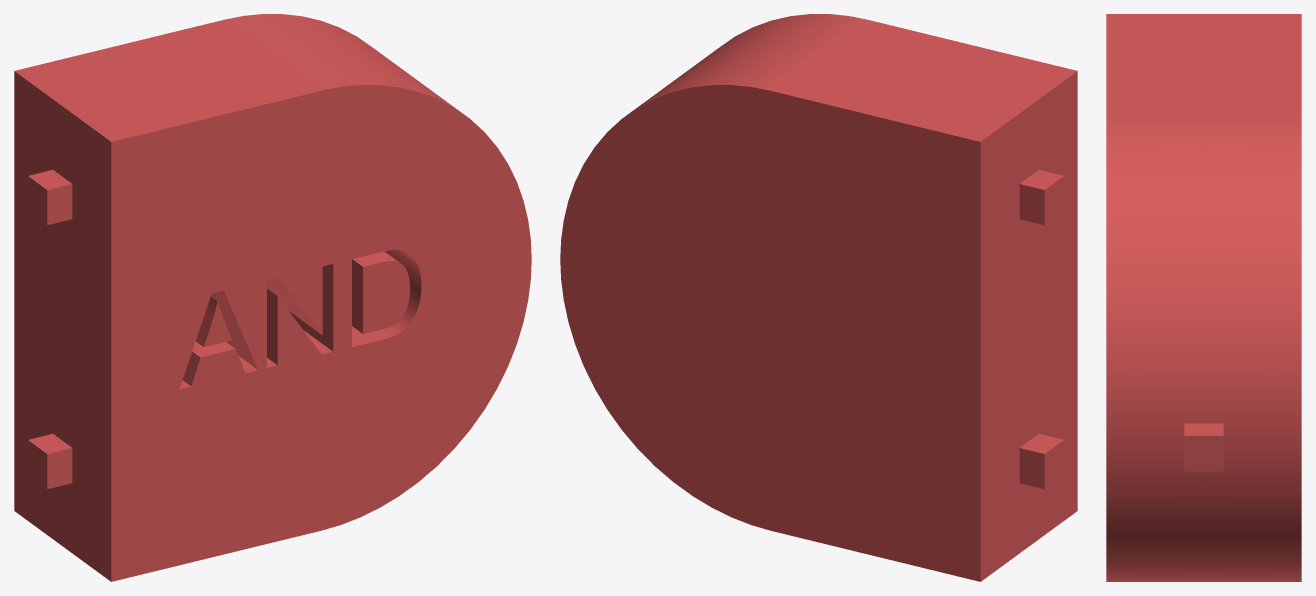
The model's file is and+gate.fbx.
The picture shows the model from 3 angles, left to right: view 1: azimuth 30°, elevation 25°; view 2: azimuth 150°, elevation 25°; view 3: azimuth 270°, elevation 25°; orthographic projection.
Visible parts, largest first — view 1: Body1; view 2: Body1; view 3: Body1.
Boxes of the visible parts, bbox=[...] form: Body1: bbox=[14, 14, 531, 581]; Body1: bbox=[560, 14, 1077, 581]; Body1: bbox=[1106, 14, 1301, 581].
Bounding box in the file's own units: 56 × 50 × 20.
